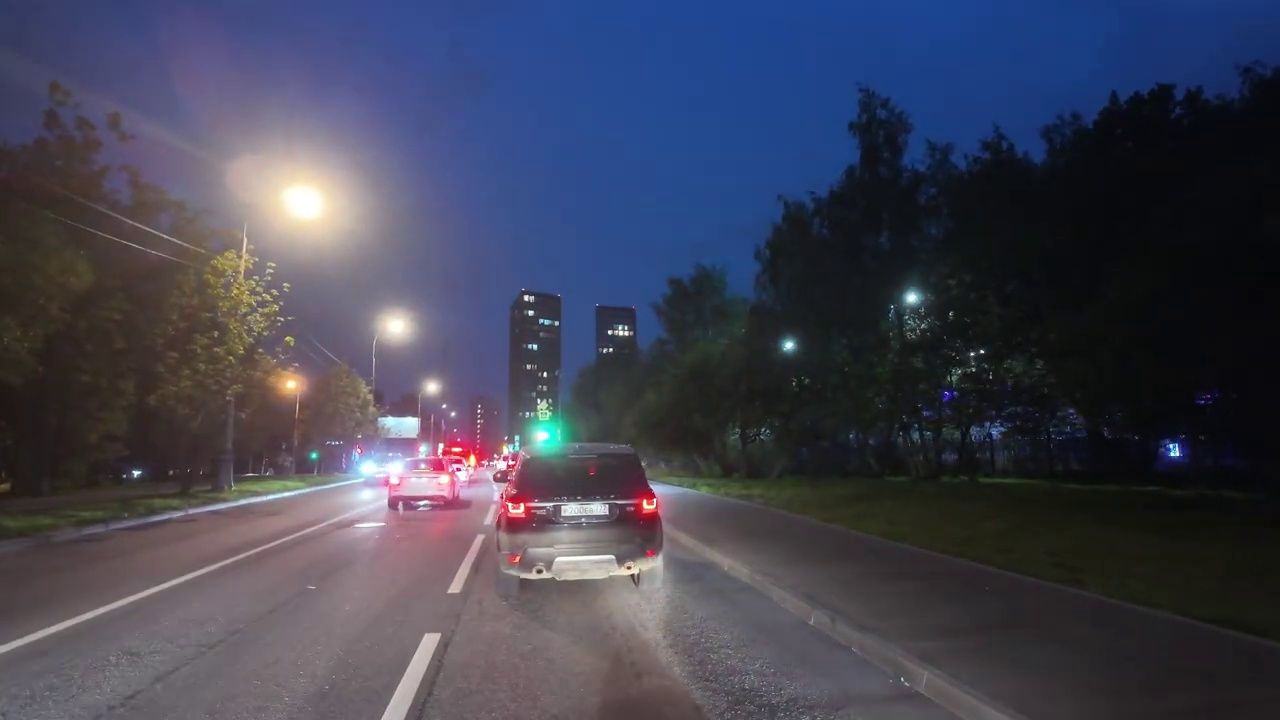acesa: (270, 176, 332, 232), (377, 309, 413, 343), (271, 370, 303, 398), (419, 377, 445, 399)
